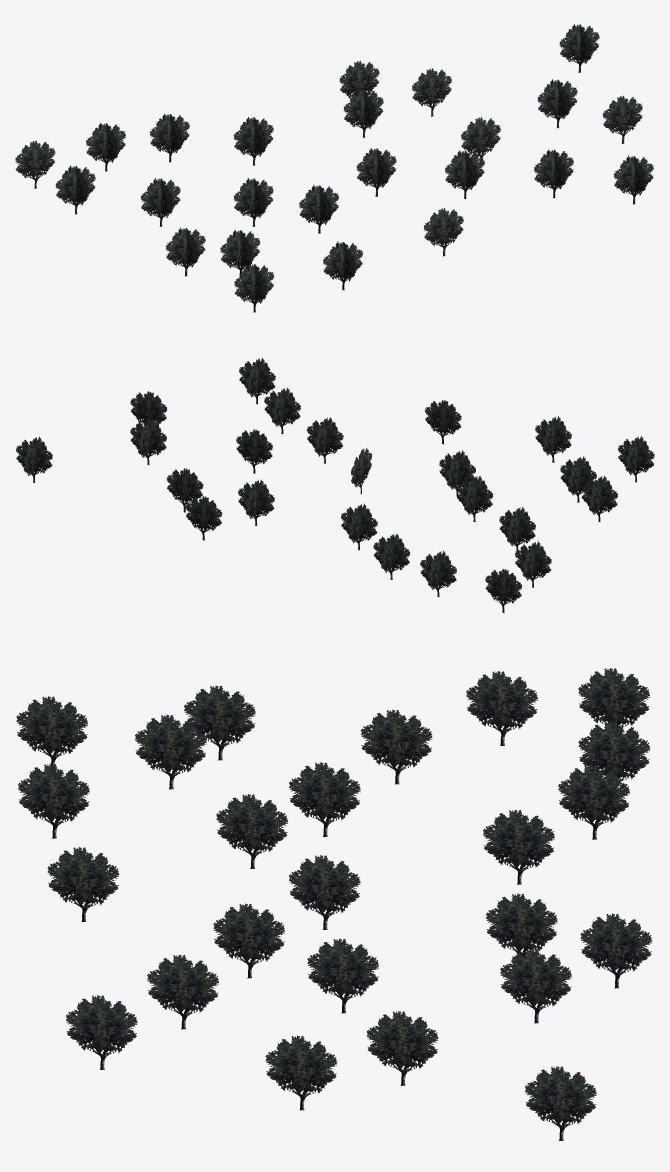
Rendered from planeTree22.FBX.
The picture shows the model from 3 angles, top to bottom: view 1: azimuth 30°, elevation 25°; view 2: azimuth 150°, elevation 25°; view 3: azimuth 270°, elevation 25°; orthographic projection. The views are drawn at different scales.
Parts seen in each view (by area): view 1: planeTree22; view 2: planeTree22; view 3: planeTree22.
Boxes of the visible parts, x1,y1,x2,y2 form: planeTree22: (15, 24, 653, 312); planeTree22: (16, 358, 654, 612); planeTree22: (16, 668, 652, 1140).
Bounding box in the file's own units: 5349 × 441 × 3366.
